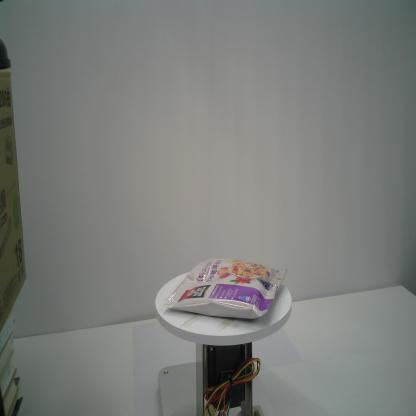Instant Drink: (164, 258, 288, 319)
